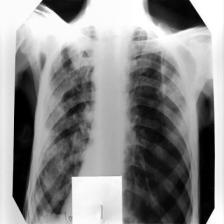tuberculosis: (27, 21, 195, 224)
